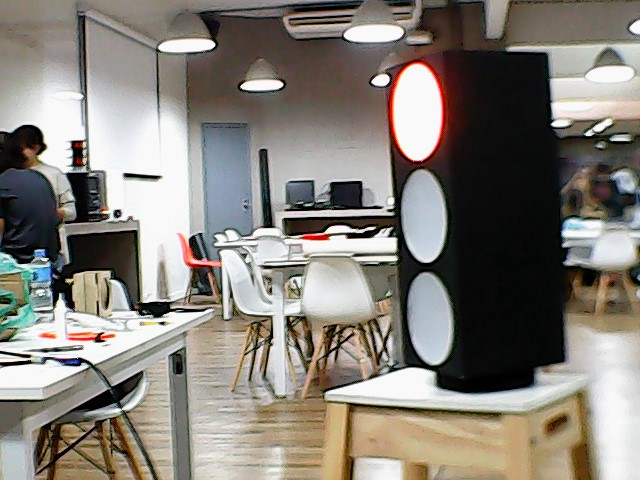vermelho: (381, 44, 571, 378)
